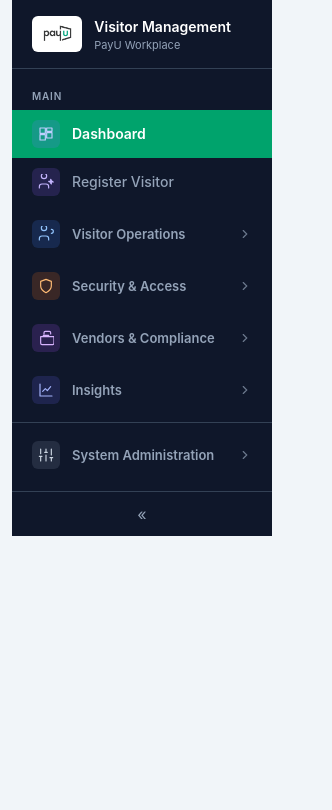
Test: sidebar accordion by role › GLOBAL_ADMIN accordion keeps one group open
Click the button "Visitor Operations": (142, 234) [12,210,272,258]
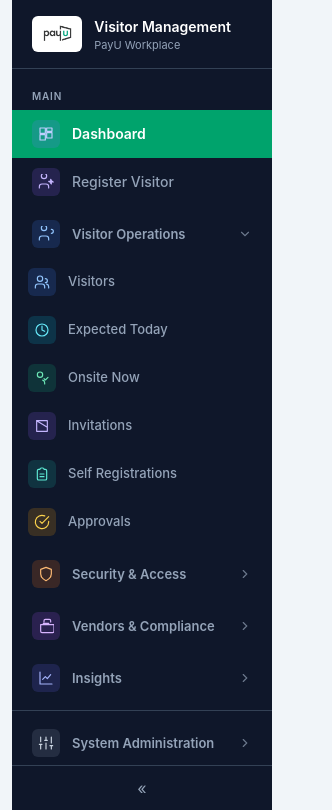
Click the button "Insights": (97, 678) [12,654,272,702]
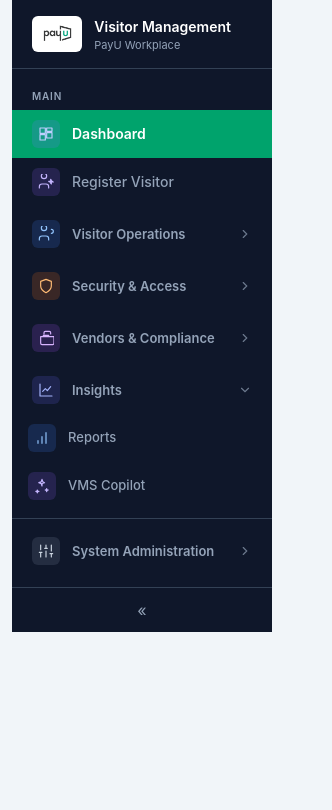
Expected: the button "Insights" is expanded, [12,366,272,414]
